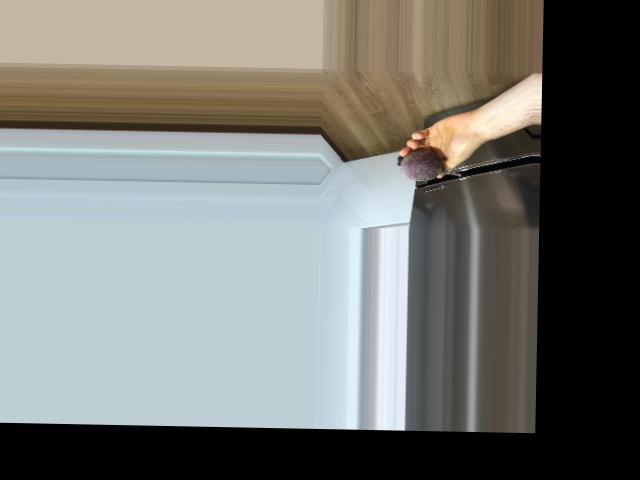beet: (396, 149, 460, 181)
